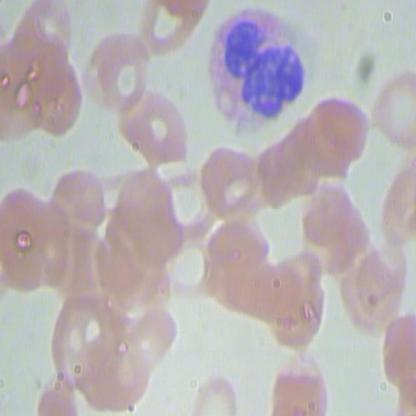RBC: (11, 39, 85, 146), (44, 281, 118, 387), (109, 87, 200, 171), (1, 185, 58, 295), (84, 23, 150, 108), (200, 208, 274, 282), (365, 64, 415, 159), (48, 164, 107, 240), (266, 132, 325, 208), (198, 140, 256, 217), (236, 141, 294, 218), (314, 94, 372, 171), (157, 224, 215, 301), (14, 1, 74, 75), (280, 114, 338, 190), (352, 239, 410, 315), (158, 164, 216, 240), (372, 157, 415, 249), (123, 299, 181, 367), (136, 1, 207, 55), (186, 367, 244, 415)
WBC: (196, 1, 313, 144)
